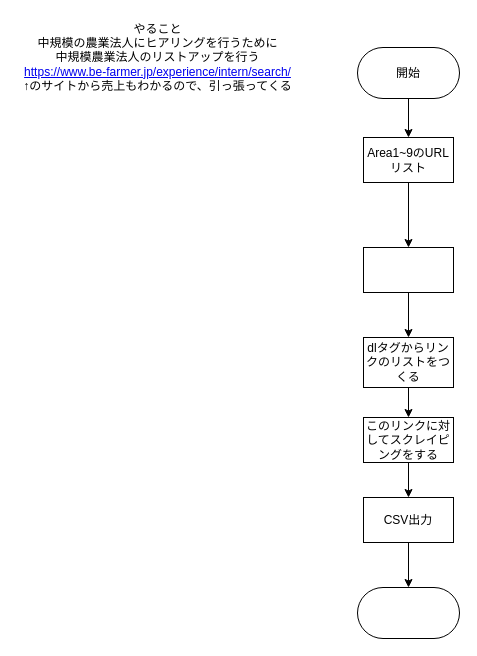
The diagram is 477 pixels wide and 656 high, and some of its shapes have lost their labels. The centre of each missing label's shape, as x and y in pixels:
dlタグがなくなるまで?pa=をぶん回す: point 408,269
終了: point 408,612
